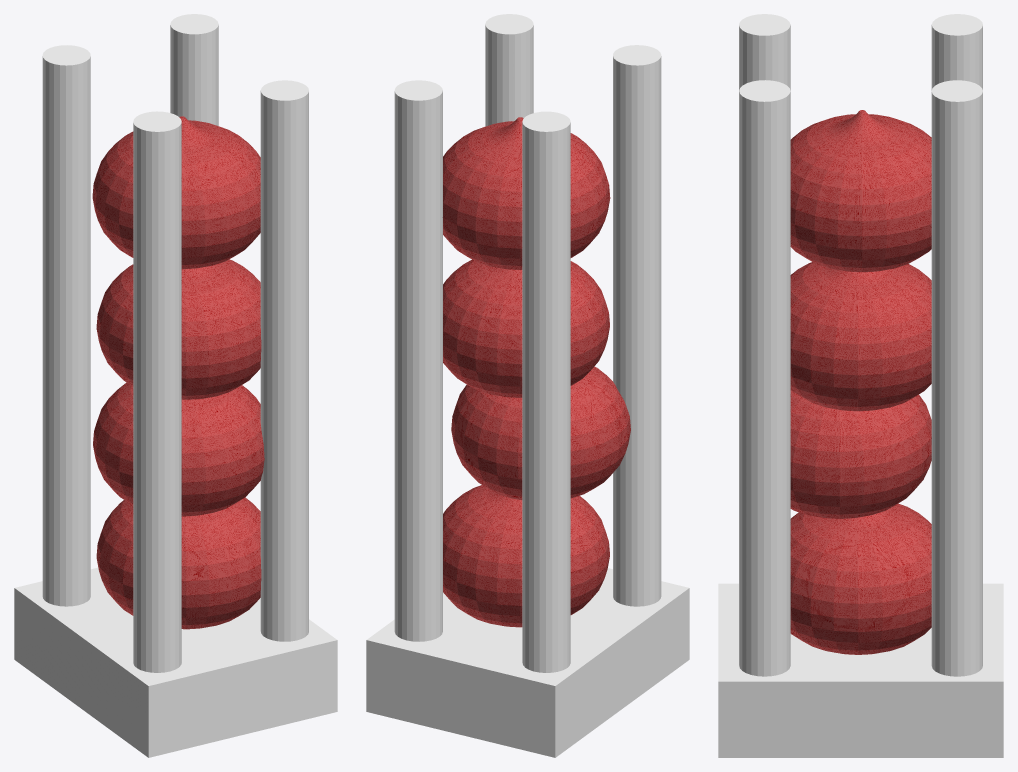
The picture shows the model from 3 angles, left to right: view 1: azimuth 30°, elevation 25°; view 2: azimuth 150°, elevation 25°; view 3: azimuth 270°, elevation 25°; orthographic projection. The views are drawn at different scales.
Visible parts, largest first — view 1: holder for onion; view 2: holder for onion; view 3: holder for onion.
Part boxes in pixels (x1=…): holder for onion: x1=14, y1=14, x2=337, y2=757; holder for onion: x1=366, y1=14, x2=689, y2=757; holder for onion: x1=718, y1=14, x2=1003, y2=757.
Bounding box in the file's own units: 3.39 × 10.52 × 4.18.
